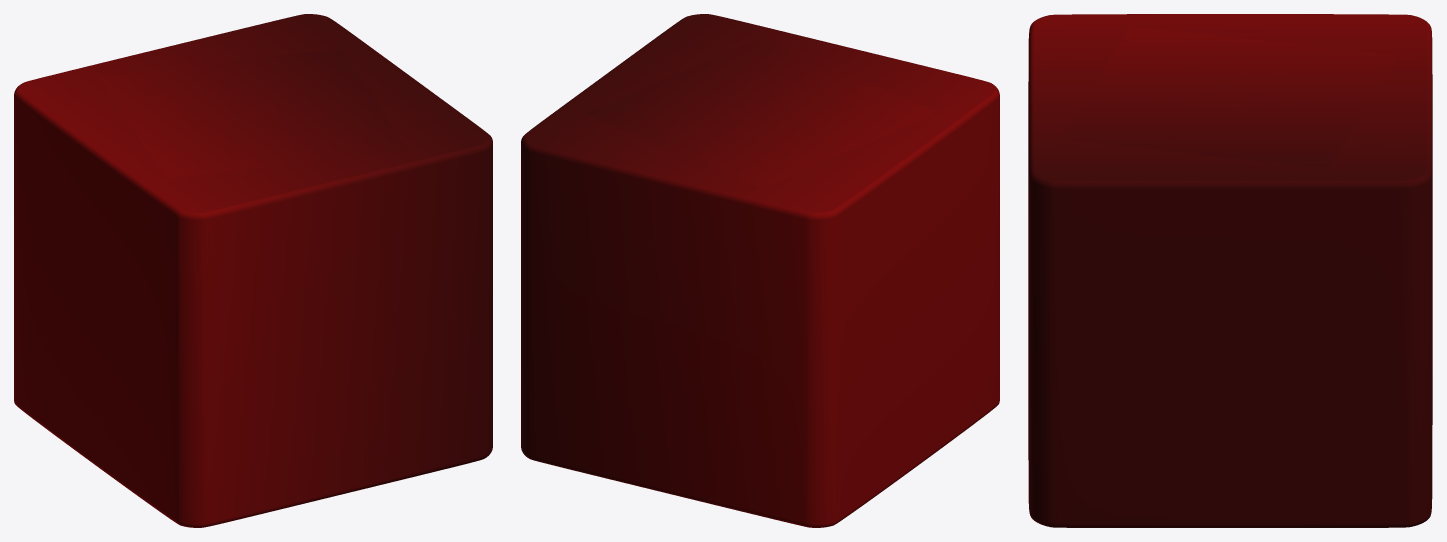
3 renders of one model, left to right at view 1: azimuth 30°, elevation 25°; view 2: azimuth 150°, elevation 25°; view 3: azimuth 270°, elevation 25°, orthographic. The views are drawn at different scales.
Size of what is drawn, in the model's own units: 0.445 by 0.4217 by 0.4449.
2 materials, 2 textured.
